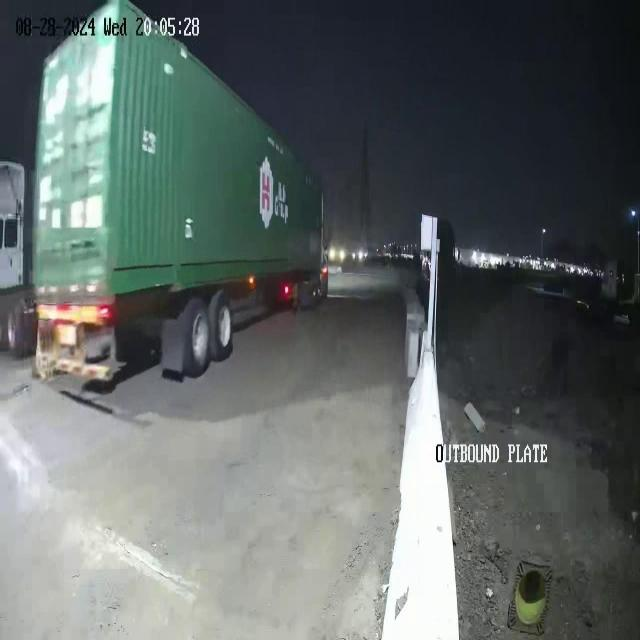TRUCK_CONTAINER: (31, 1, 329, 384)
